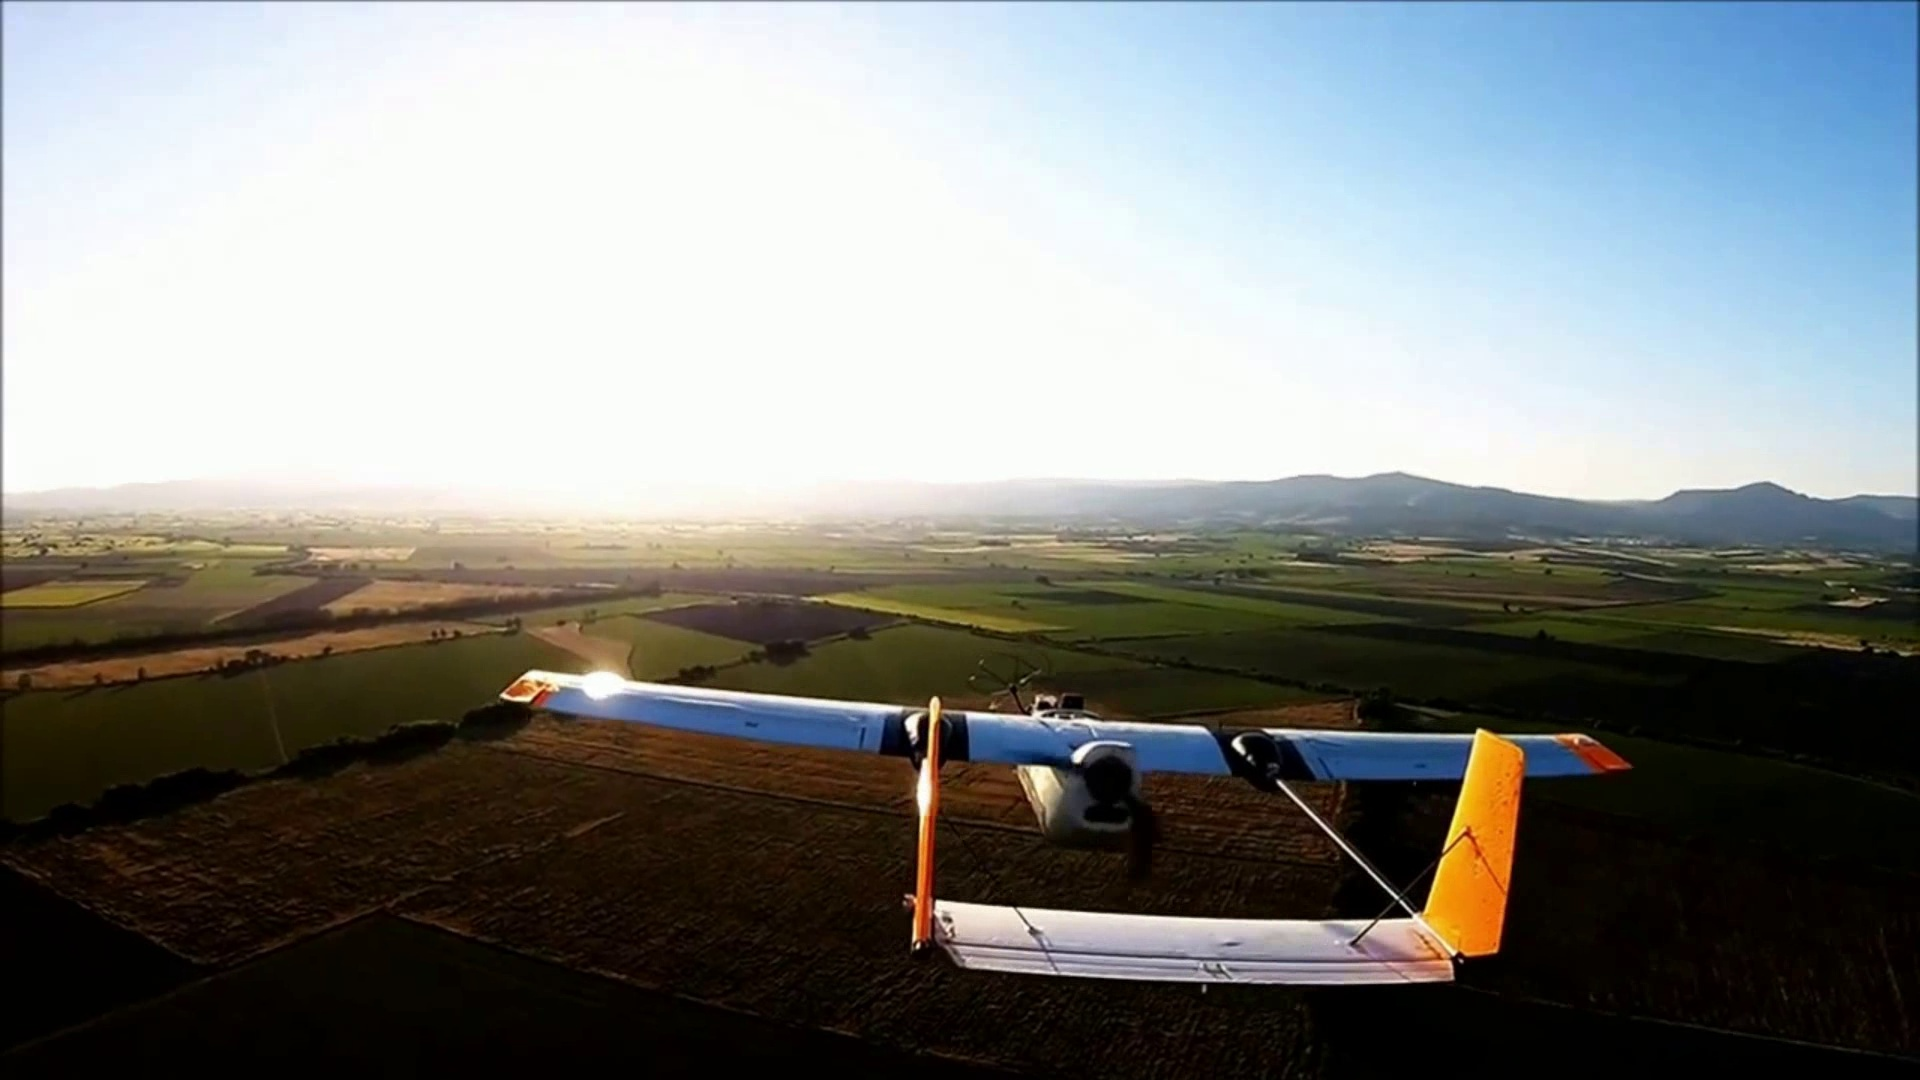airplane: (497, 670, 1626, 990)
